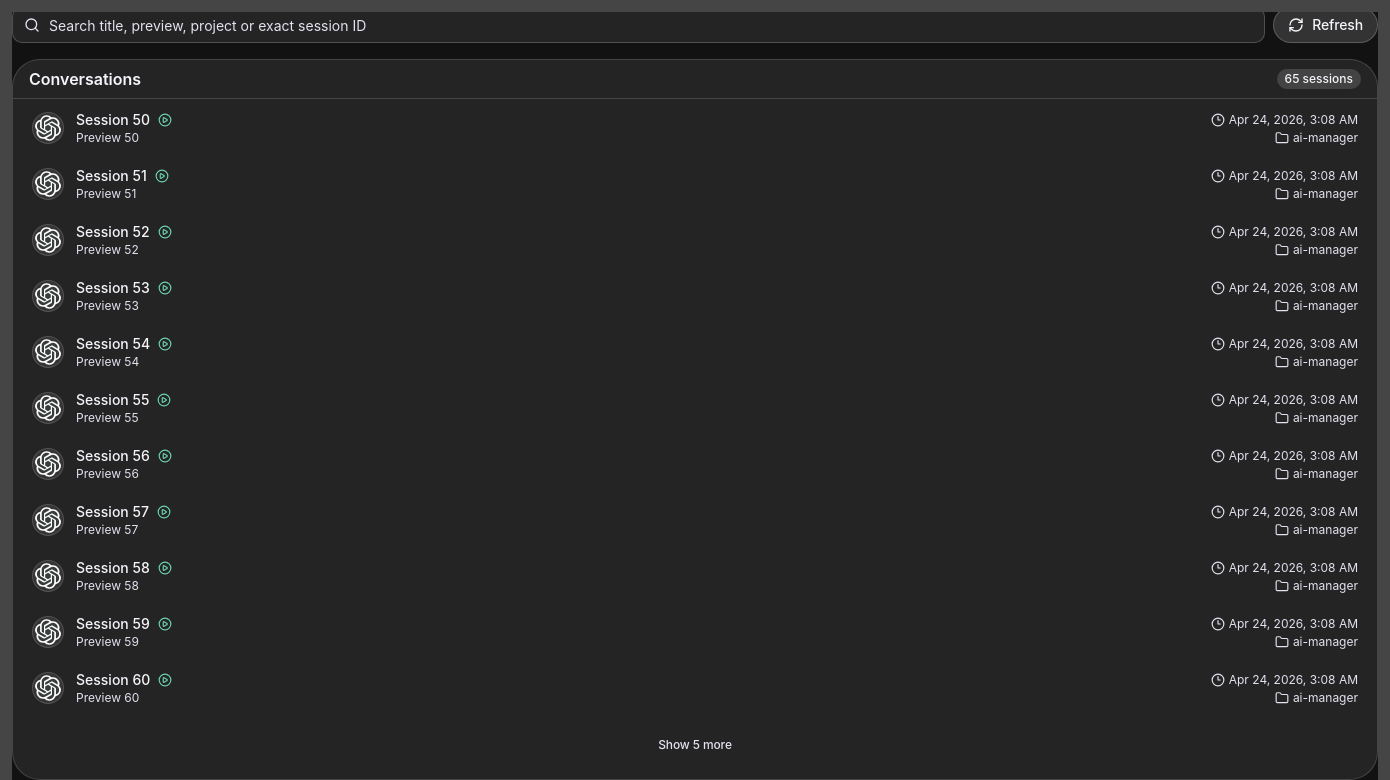
Test: SessionsPage › keeps the initial accessibility tree bounded and reveals more sessions on demand
(page scrolled)
Check: the text "Session 60" is shown, box [76,670,150,690]
Check: the text "Session 61" is not shown
Click the 2nd button named "Show 5 more" at (695, 745), box [645,729,745,761]
(page scrolled)
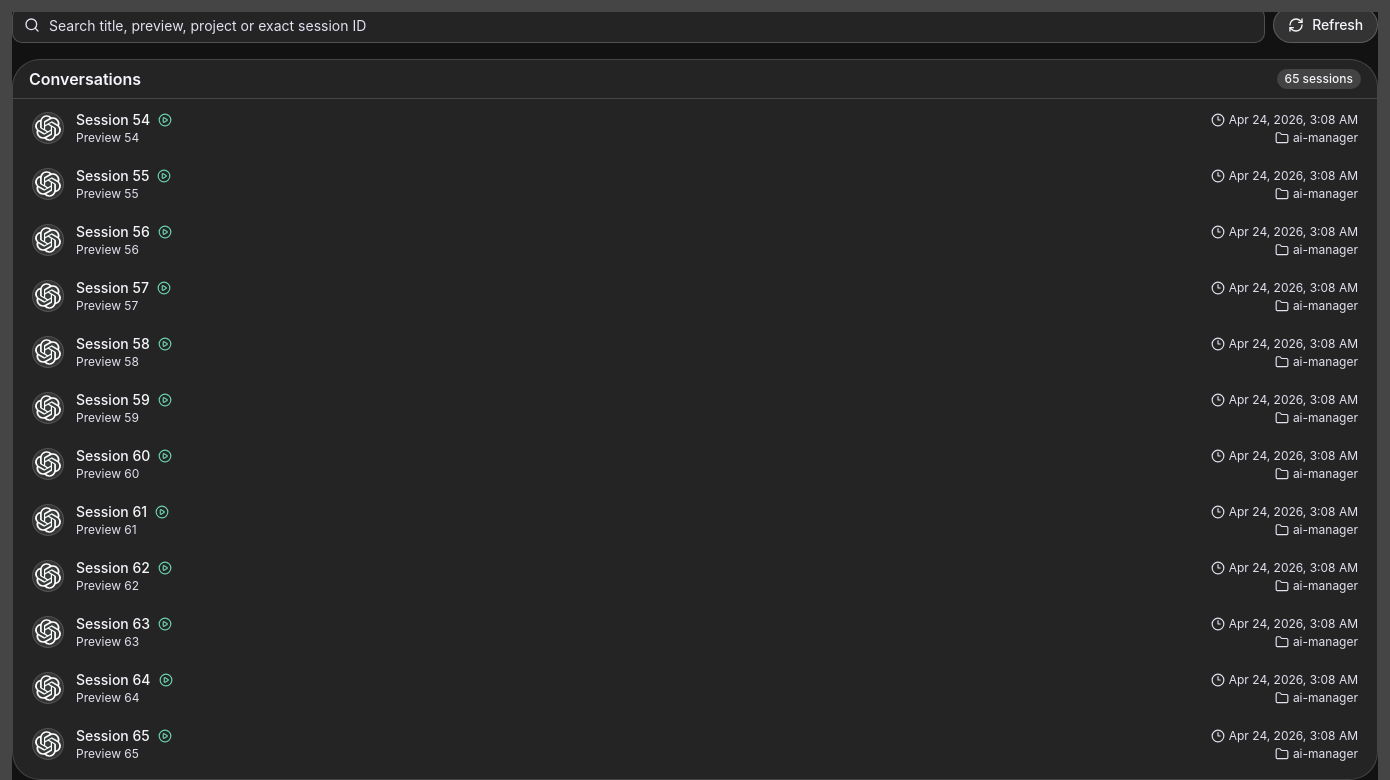
Check: the text "Session 65" is shown, box [76,726,150,746]
